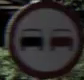No overtake: (15, 9, 77, 62)
